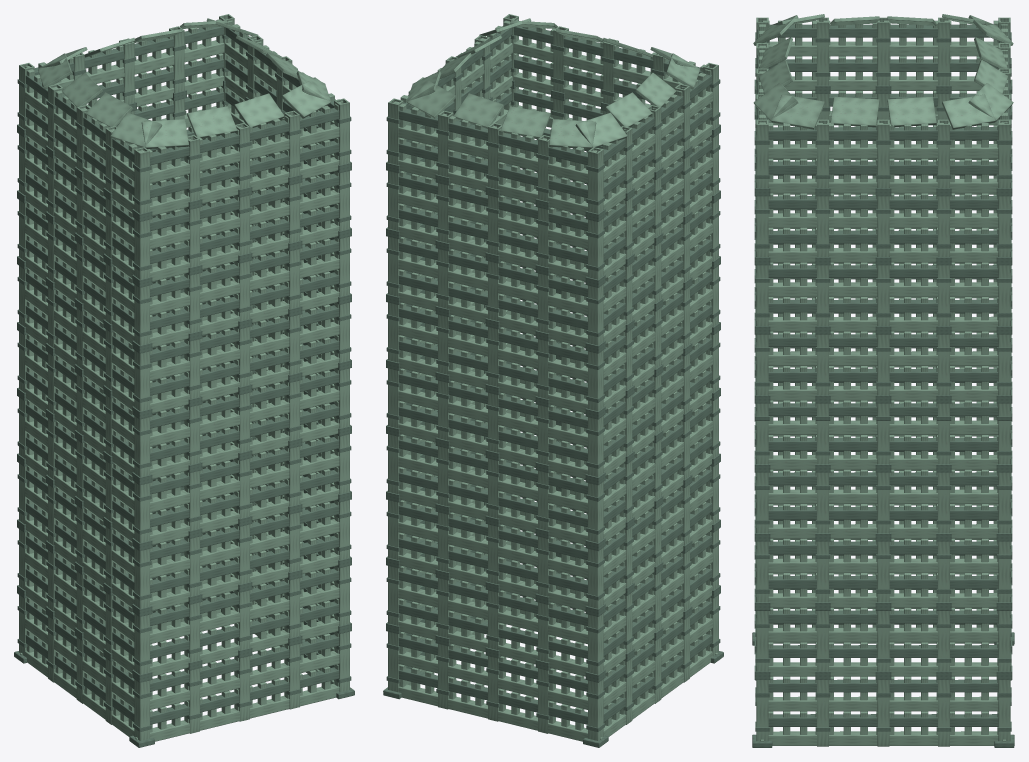
The picture shows the model from 3 angles, left to right: view 1: azimuth 30°, elevation 25°; view 2: azimuth 150°, elevation 25°; view 3: azimuth 270°, elevation 25°; orthographic projection. The views are drawn at different scales.
Visible parts, largest first — view 1: Crown alloy petal 0-1, Crown alloy petal 0-0, Crown alloy petal 0-2, Crown alloy petal 3-3, Crown alloy petal 3-2, Crown alloy petal 0-3, Tier 8 side 0 post 0, Tier 0 side 0 post 0, Tier 3 side 0 post 0, Tier 4 side 0 post 0, Tier 6 side 0 post 0, Tier 5 side 0 post 0 (+39 smaller); view 2: Crown alloy petal 2-2, Crown alloy petal 2-3, Crown alloy petal 2-1, Crown alloy petal 3-0, Crown alloy petal 3-1, Crown alloy petal 2-0, Tier 8 side 3 post 0, Tier 0 side 3 post 0, Tier 3 side 3 post 0, Tier 4 side 3 post 0, Tier 6 side 3 post 0, Tier 5 side 3 post 0 (+22 smaller); view 3: Crown alloy petal 1-1, Crown alloy petal 1-2, Crown alloy petal 1-3, Crown alloy petal 1-0, Tier 8 side 1 post 2, Crown alloy petal 0-3, Tier 8 side 1 post 0, Tier 8 side 2 post 0, Crown alloy petal 2-0, Tier 8 side 3 post 2, Tier 0 side 1 post 2, Tier 8 side 1 post 1 (+198 smaller).
Part boxes in pixels (x1,y1,x2,y2): Crown alloy petal 0-1: [187, 106, 237, 138]; Crown alloy petal 0-0: [141, 119, 188, 148]; Crown alloy petal 0-2: [233, 93, 284, 127]; Crown alloy petal 3-3: [110, 112, 162, 147]; Crown alloy petal 3-2: [85, 92, 133, 127]; Crown alloy petal 0-3: [281, 81, 330, 118]; Tier 8 side 0 post 0: [134, 147, 149, 213]; Tier 0 side 0 post 0: [134, 679, 149, 740]; Tier 3 side 0 post 0: [134, 482, 149, 542]; Tier 4 side 0 post 0: [134, 416, 149, 476]; Tier 6 side 0 post 0: [134, 284, 149, 345]; Tier 5 side 0 post 0: [134, 350, 149, 411]; Crown alloy petal 2-2: [500, 106, 550, 138]; Crown alloy petal 2-3: [549, 119, 596, 148]; Crown alloy petal 2-1: [453, 93, 504, 128]; Crown alloy petal 3-0: [575, 112, 627, 147]; Crown alloy petal 3-1: [604, 92, 652, 127]; Crown alloy petal 2-0: [407, 81, 456, 118]; Tier 8 side 3 post 0: [588, 147, 603, 213]; Tier 0 side 3 post 0: [588, 679, 603, 740]; Tier 3 side 3 post 0: [588, 482, 603, 542]; Tier 4 side 3 post 0: [588, 416, 603, 476]; Tier 6 side 3 post 0: [588, 284, 603, 345]; Tier 5 side 3 post 0: [588, 350, 603, 411]; Crown alloy petal 1-1: [830, 96, 879, 127]; Crown alloy petal 1-2: [887, 96, 936, 127]; Crown alloy petal 1-3: [942, 94, 995, 129]; Crown alloy petal 1-0: [771, 94, 824, 129]; Tier 8 side 1 post 2: [877, 119, 889, 187]; Crown alloy petal 0-3: [753, 83, 798, 121]; Tier 8 side 1 post 0: [756, 119, 768, 187]; Tier 8 side 2 post 0: [998, 119, 1010, 187]; Crown alloy petal 2-0: [968, 83, 1013, 121]; Tier 8 side 3 post 2: [877, 17, 889, 85]; Tier 0 side 1 post 2: [877, 680, 889, 746]; Tier 8 side 1 post 1: [817, 119, 828, 187].
Bounding box in the file's own units: 1.95 × 5.21 × 1.95.
2 materials, 2 textured.
